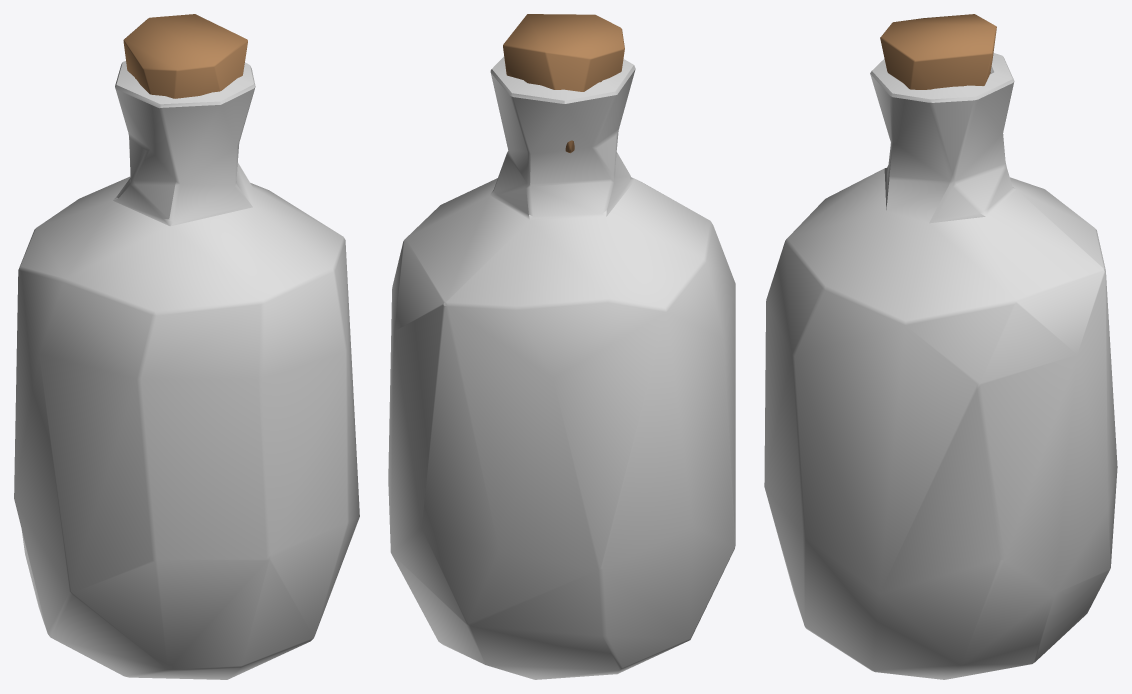
File: Potion2.fbx
3 views of the same model, side by side, from view 1: azimuth 30°, elevation 25°; view 2: azimuth 150°, elevation 25°; view 3: azimuth 270°, elevation 25° (orthographic).
Parts seen in each view (by area): view 1: Potion2, Cork.002; view 2: Potion2, Cork.002; view 3: Potion2, Cork.002.
Boxes of the visible parts, bbox=[...] form: Potion2: bbox=[14, 61, 359, 679]; Cork.002: bbox=[123, 14, 247, 98]; Potion2: bbox=[388, 56, 735, 679]; Cork.002: bbox=[503, 14, 624, 153]; Potion2: bbox=[764, 53, 1117, 679]; Cork.002: bbox=[880, 14, 996, 89].
Size of the model in its own units: 286 by 546 by 287.
